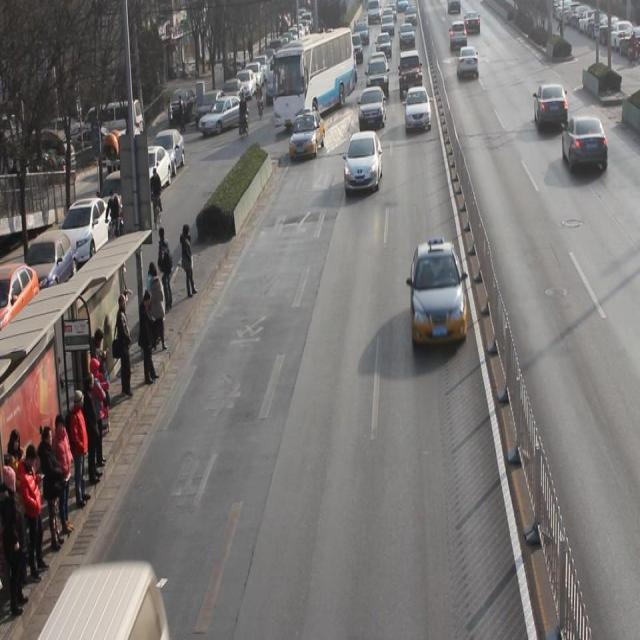car: (411, 241, 468, 347), (562, 114, 608, 175), (344, 130, 384, 196), (289, 112, 326, 159), (535, 83, 569, 130), (405, 85, 432, 133), (358, 86, 386, 130), (399, 50, 424, 96), (366, 54, 390, 99), (457, 45, 480, 81)
van: (272, 30, 354, 123)
